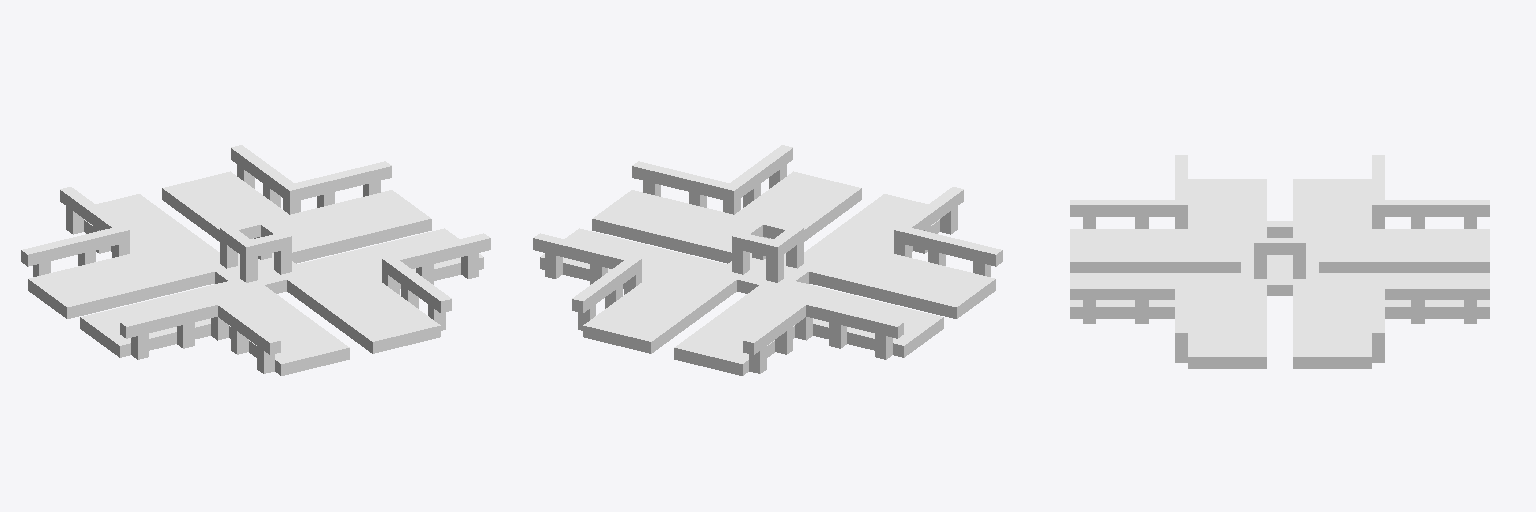
File: roadCrossway.obj
3 views of the same model, side by side, from view 1: azimuth 30°, elevation 25°; view 2: azimuth 150°, elevation 25°; view 3: azimuth 270°, elevation 25° (orthographic).
Visible parts, largest first — view 1: roadCrossway; view 2: roadCrossway; view 3: roadCrossway.
Boxes of the visible parts, x1,y1,x2,y2 form: roadCrossway: [21, 145, 490, 375]; roadCrossway: [533, 145, 1002, 375]; roadCrossway: [1070, 155, 1489, 368].
Size of the model in its own units: 3.2 by 0.4 by 3.2.